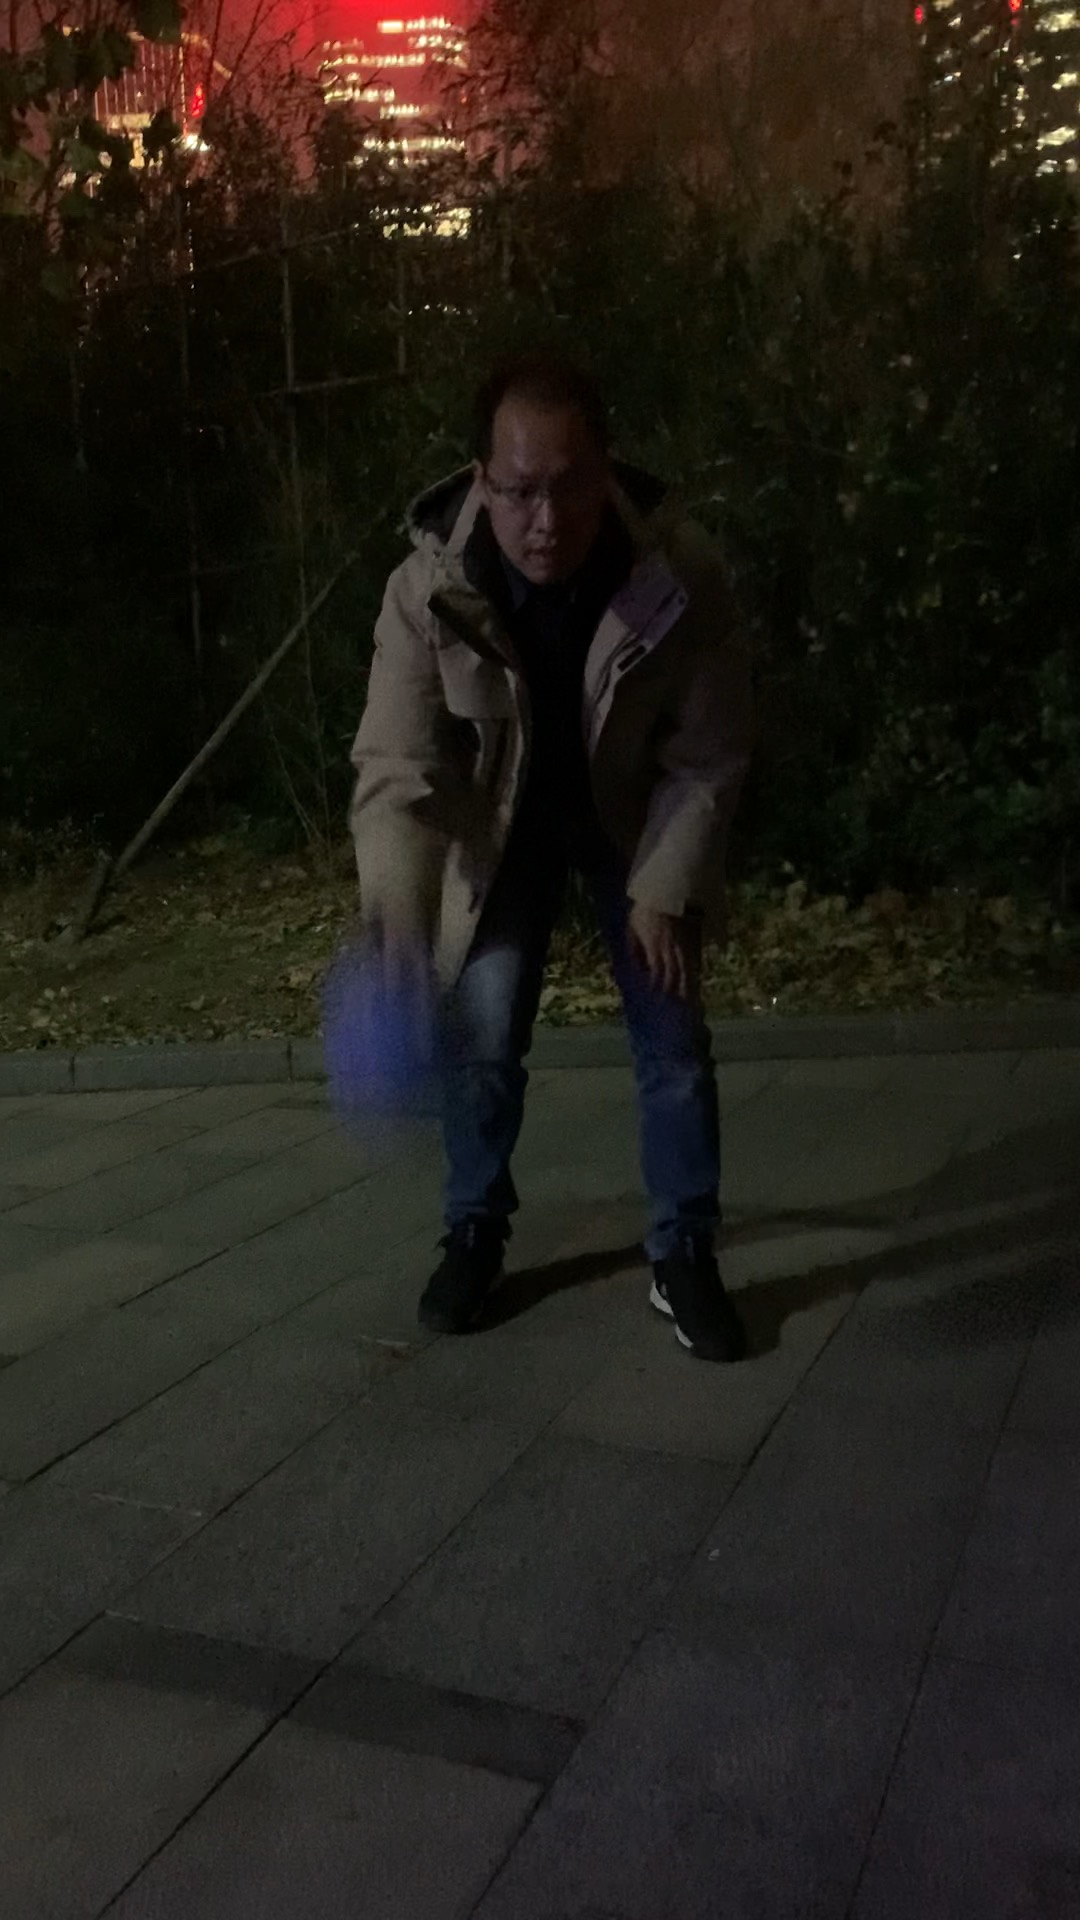ball: (328, 965, 481, 1121)
